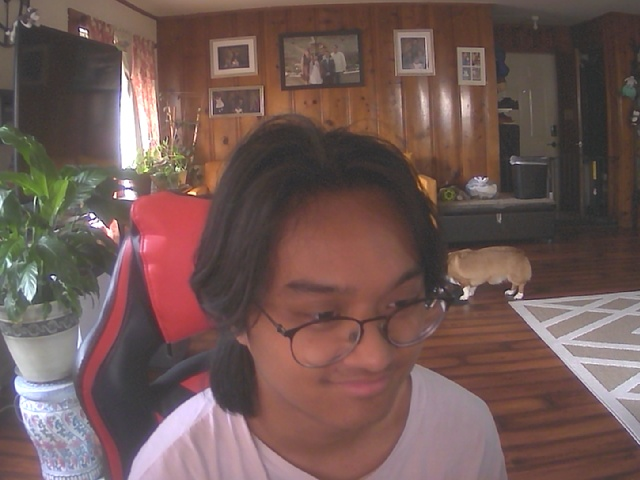happy: (216, 144, 457, 432)
